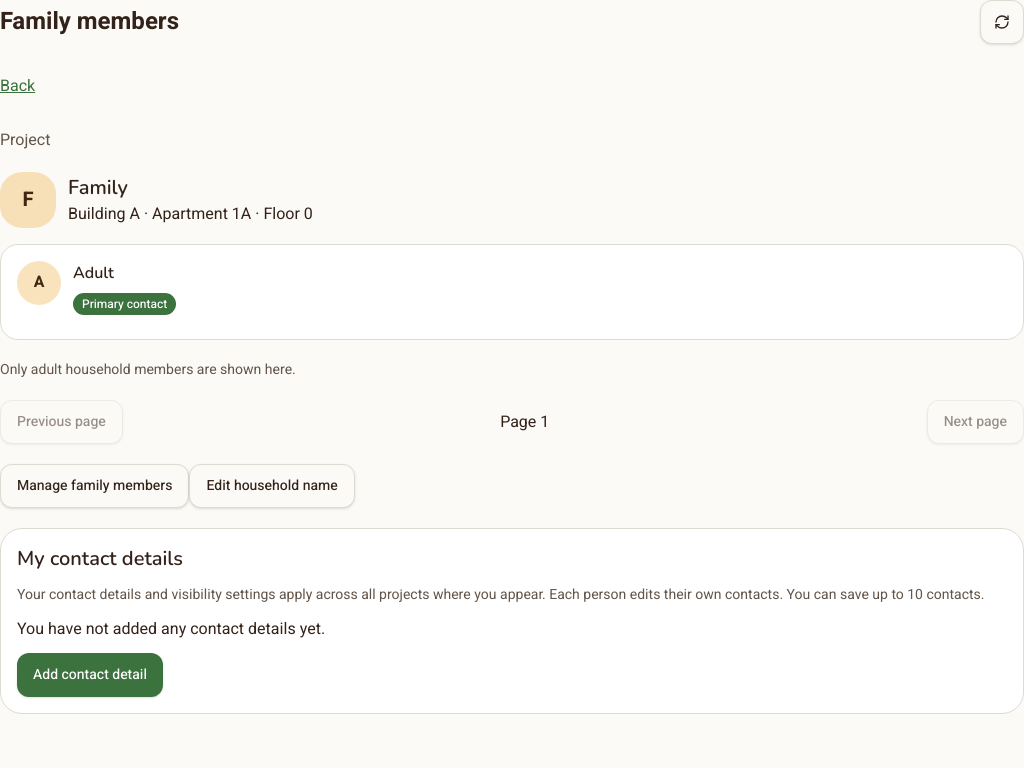
Test: submits renamed household with its original value for conflict detection
Click the button "Edit household name" at (272, 486), box [189, 464, 355, 508]
(page scrolled)
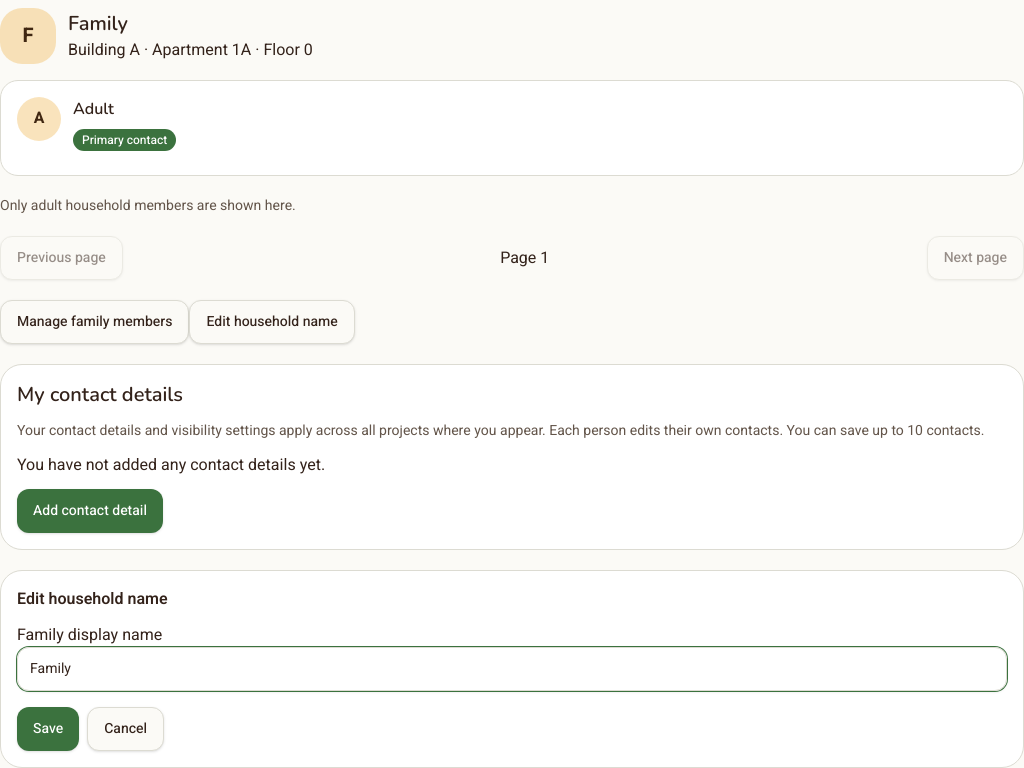
Replace the text in the field with "New family" at (512, 669), box [17, 647, 1007, 691]
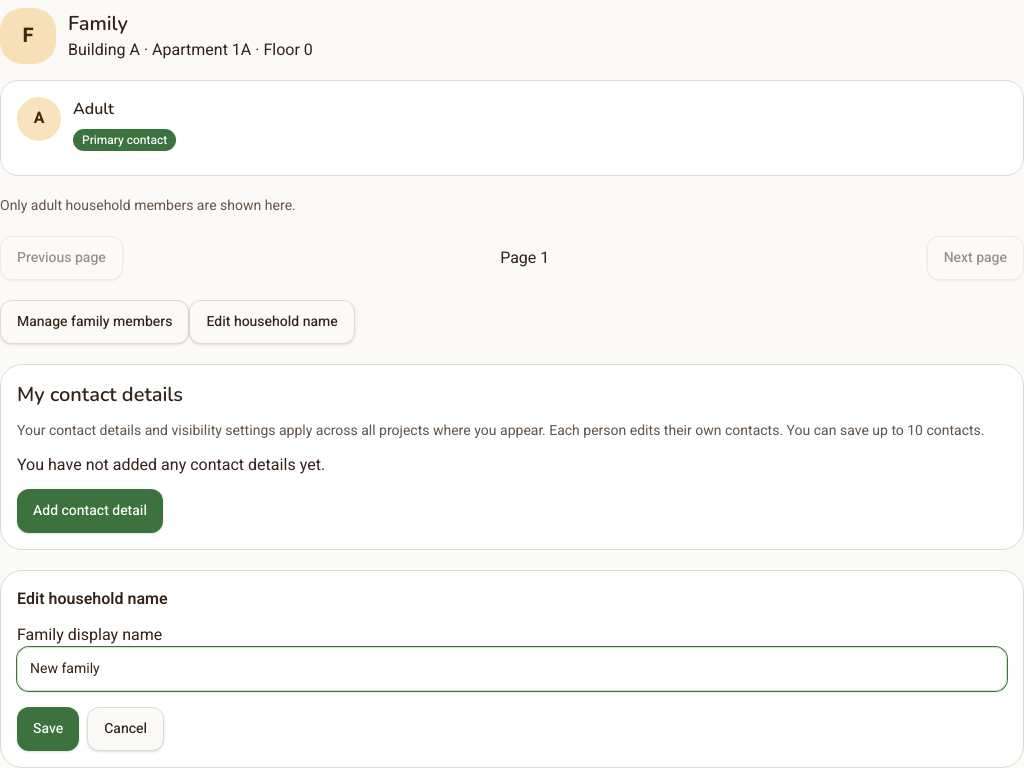
Click the button "Save" at (48, 729), box [17, 707, 79, 751]
(page scrolled)
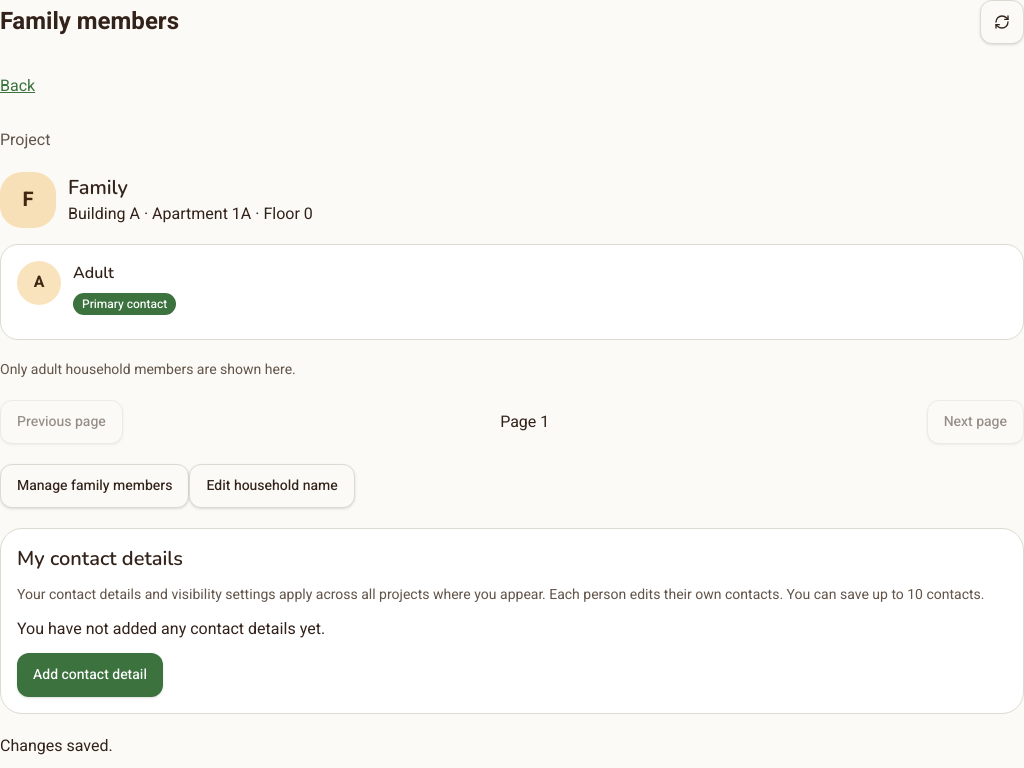
expect the text "Changes saved." is shown: met, box [0, 734, 113, 758]
